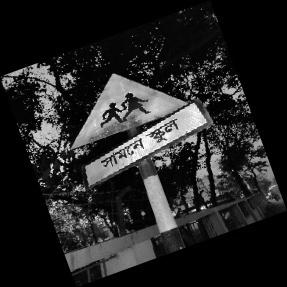School-in-front: (71, 71, 212, 189)
